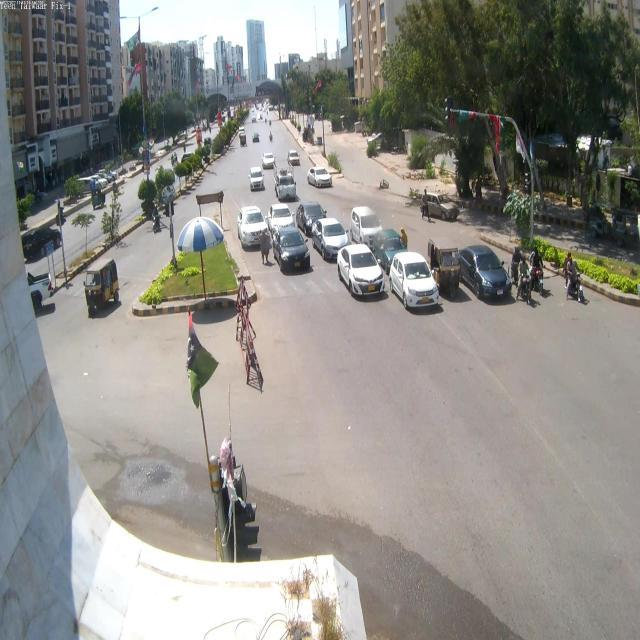car: (455, 243, 512, 305), (387, 251, 442, 314), (337, 243, 388, 298), (14, 219, 66, 265), (271, 228, 312, 275), (308, 216, 349, 262), (236, 208, 270, 250), (351, 204, 384, 244), (296, 202, 326, 236), (274, 172, 297, 204), (270, 206, 293, 232), (305, 166, 332, 187), (250, 167, 265, 190), (262, 153, 276, 169), (288, 151, 300, 166)
motorbike: (561, 255, 588, 306), (516, 259, 533, 303), (509, 245, 526, 286), (530, 252, 545, 295)
